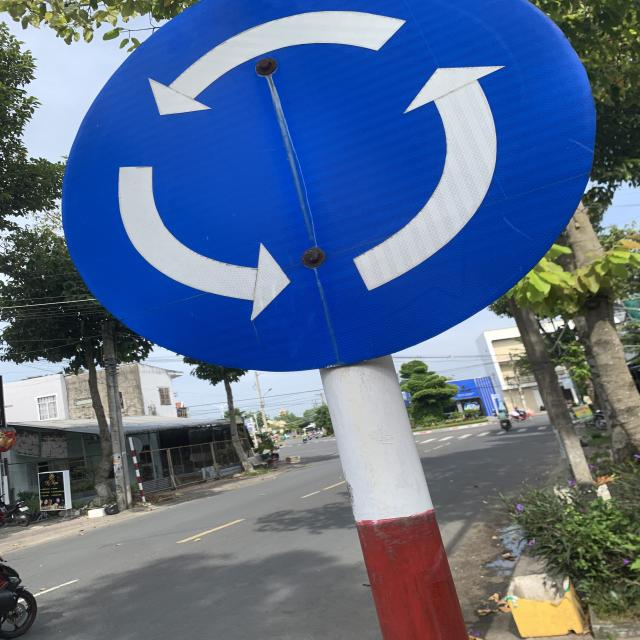Xe_Bus: (60, 0, 598, 372)
